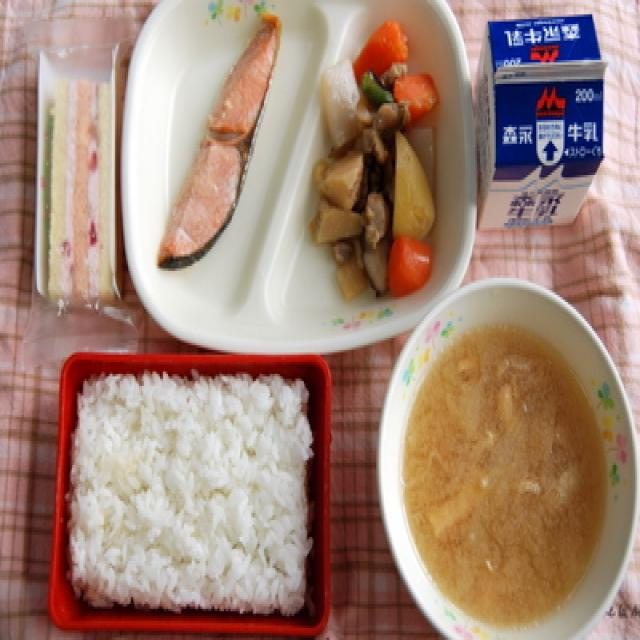熟制海鲜: (136, 0, 280, 316)
